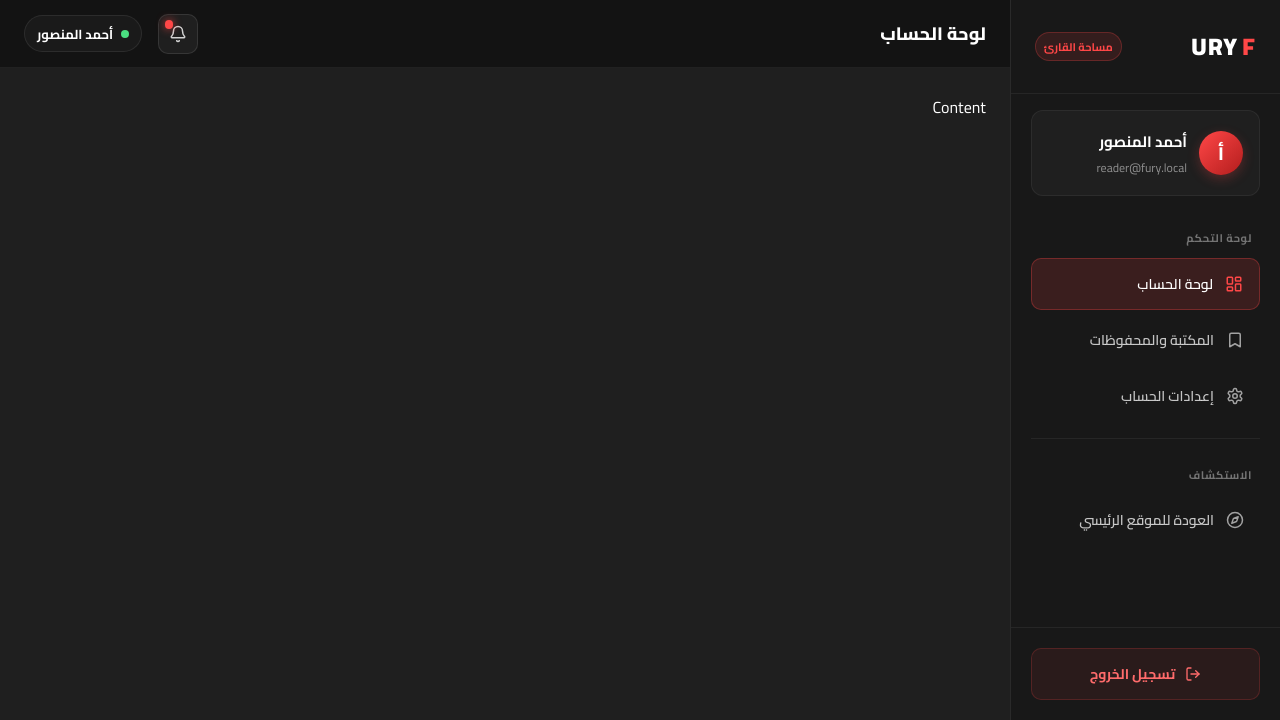
Scenario: WorkspaceShell Navigation & Shell UI › opens notification dropdown, displays notifications, and allows marking all read
This screenshot has width=1280, height=720.
What coordinates should you click on to do the following:
click the button named "الإشعارات"
I would click on:
 (178, 34)
Its box is [158, 14, 198, 54].
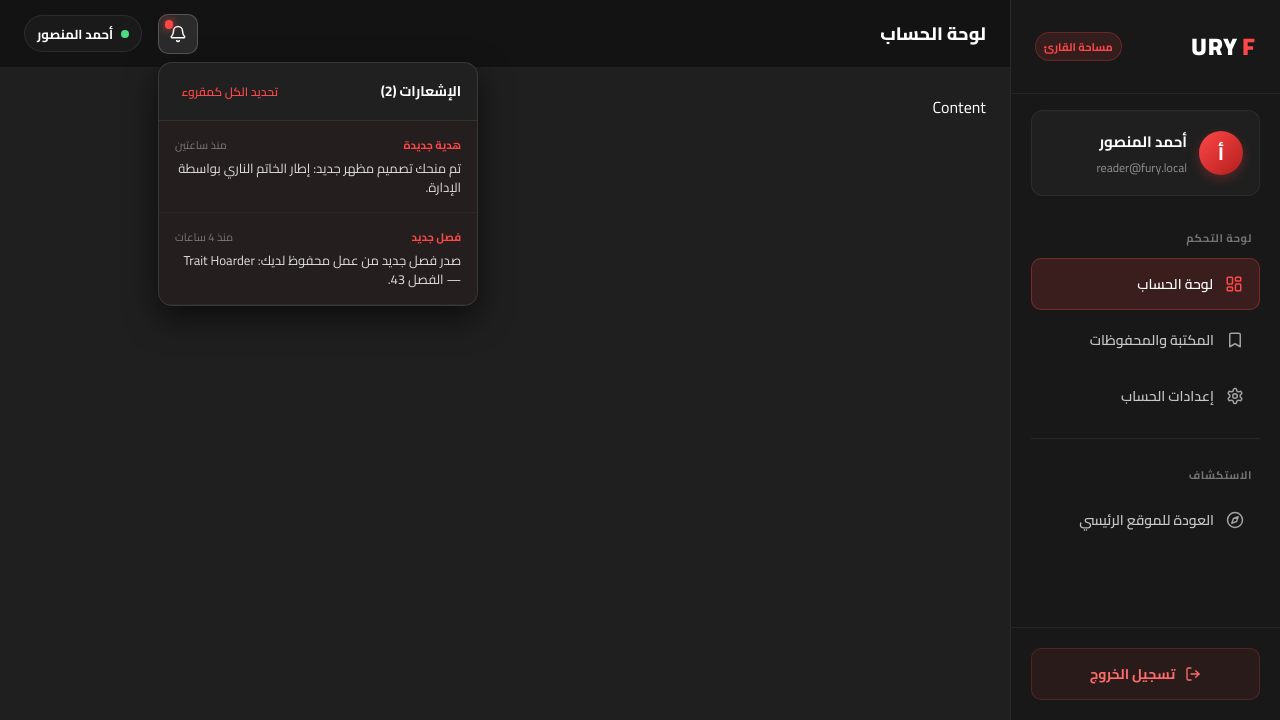
Result: the text "هدية جديدة" is shown at [404, 135, 461, 155]
Result: the text "فصل جديد" is shown at [412, 227, 461, 247]
What coordinates should you click on to do the following:
click the button "تحديد الكل كمقروء"
I would click on:
 (230, 91)
Its box is [175, 76, 284, 106].
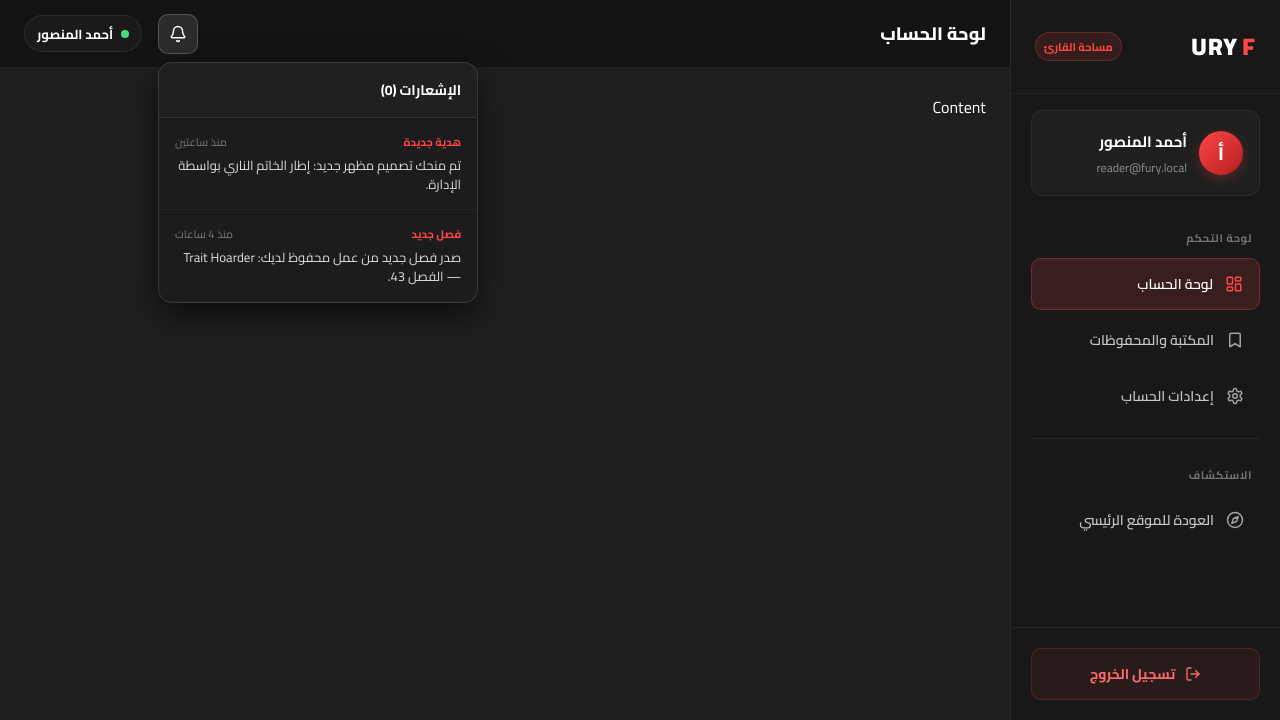
Result: the button "تحديد الكل كمقروء" is gone
